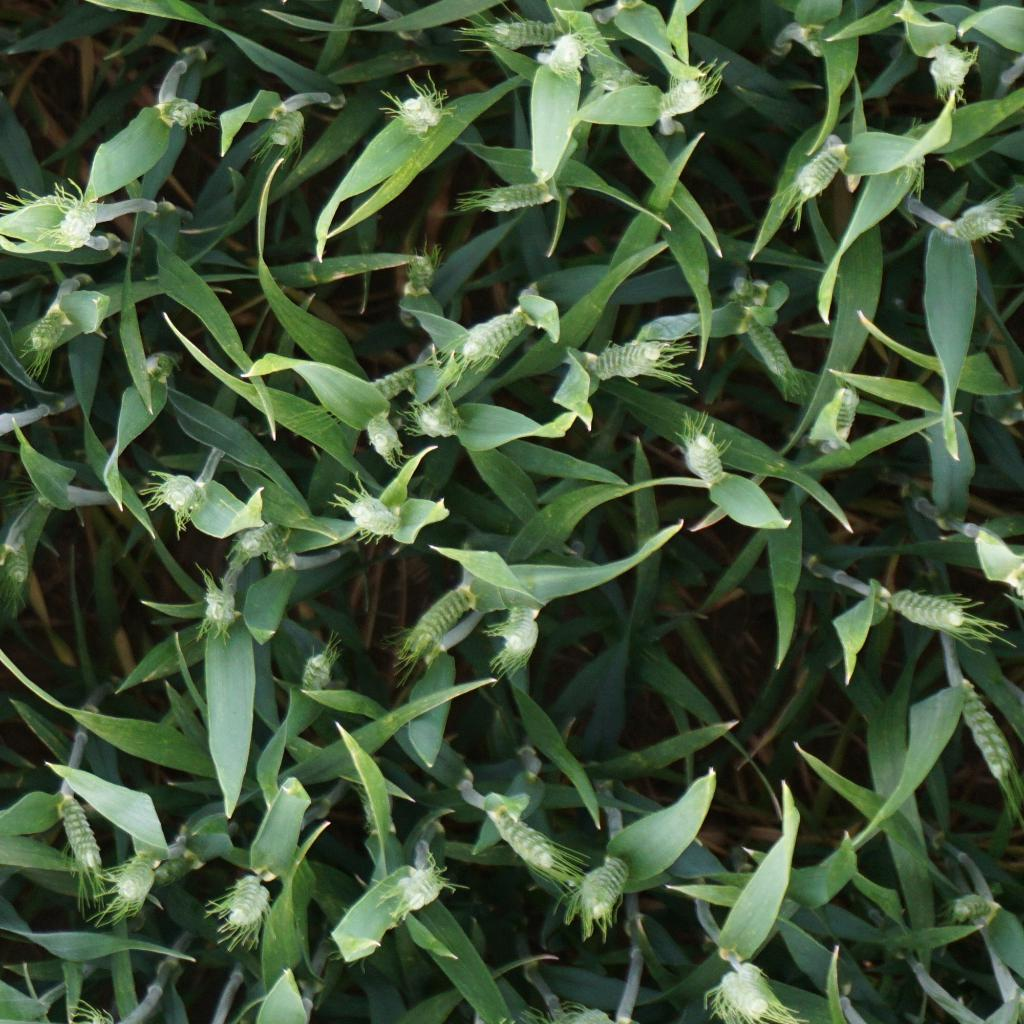0-0: (943, 670, 1020, 797), (406, 584, 472, 653), (488, 805, 556, 871), (460, 303, 528, 361), (55, 792, 103, 871), (579, 853, 631, 923), (885, 591, 975, 631), (594, 337, 669, 381), (744, 314, 793, 379), (656, 72, 719, 122), (339, 488, 403, 536), (923, 38, 979, 91), (796, 147, 846, 201), (721, 967, 770, 1021), (226, 876, 272, 932), (115, 849, 157, 910), (944, 203, 1010, 241), (480, 183, 563, 213), (488, 20, 566, 50), (500, 604, 540, 662), (823, 387, 863, 443), (396, 865, 443, 911), (685, 429, 723, 485), (366, 364, 426, 399), (950, 888, 1000, 930), (236, 521, 291, 559), (547, 32, 594, 75), (358, 416, 406, 458), (29, 303, 68, 352), (592, 61, 648, 95), (156, 476, 207, 512), (198, 587, 237, 631), (4, 537, 33, 596), (257, 112, 308, 145), (60, 198, 100, 239), (43, 221, 94, 251), (400, 99, 439, 135), (418, 407, 460, 439), (301, 649, 333, 691), (29, 481, 64, 512), (360, 792, 384, 833), (166, 99, 203, 125), (893, 144, 924, 175), (403, 260, 433, 289), (146, 349, 168, 385)
